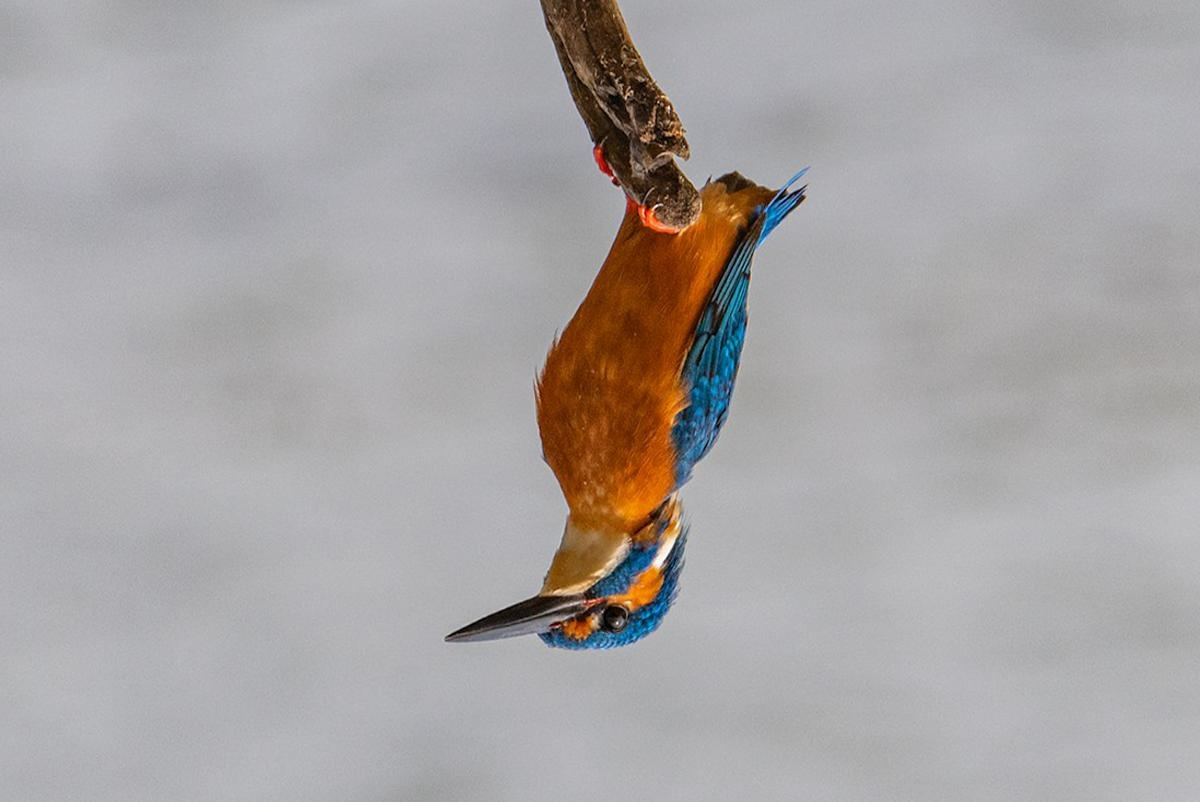kingfisher: (424, 155, 799, 684)
